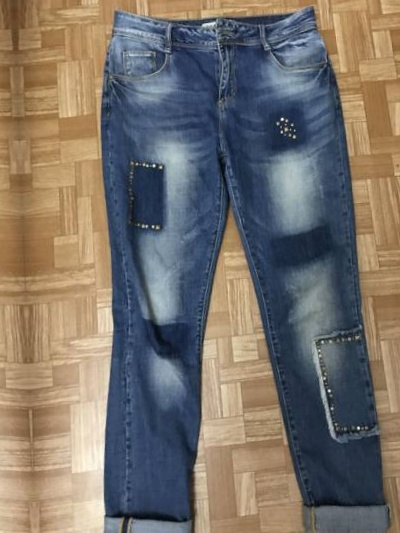Pants: (60, 0, 400, 533)
